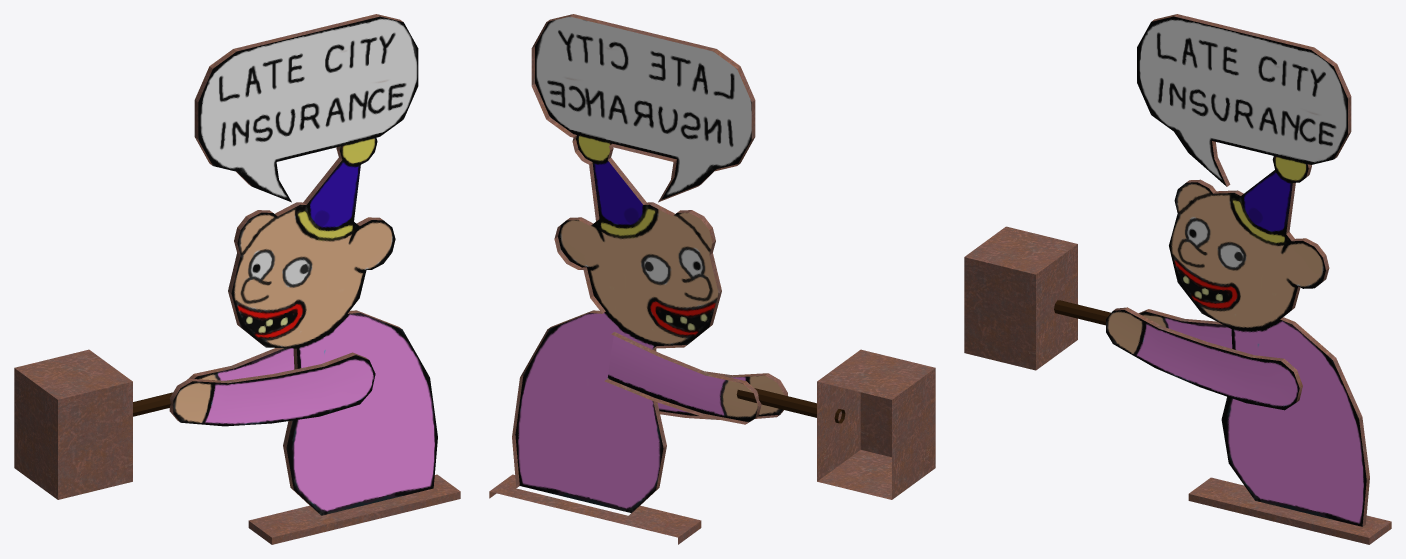
Rendered from KrusherKlownRight.fbx.
The picture shows the model from 3 angles, left to right: view 1: azimuth 30°, elevation 25°; view 2: azimuth 150°, elevation 25°; view 3: azimuth 330°, elevation 25°; orthographic projection. The views are drawn at different scales.
Parts seen in each view (by area): view 1: Body1, Hammer1; view 2: Body1, Hammer1; view 3: Body1, Hammer1.
Boxes of the visible parts, bbox=[...] form: Body1: bbox=[194, 14, 460, 544]; Hammer1: bbox=[14, 348, 375, 499]; Body1: bbox=[489, 14, 755, 544]; Hammer1: bbox=[604, 332, 935, 499]; Body1: bbox=[1137, 14, 1391, 544]; Hammer1: bbox=[964, 226, 1302, 410].
Bounding box in the file's own units: 10.21 × 11.63 × 1.87.
